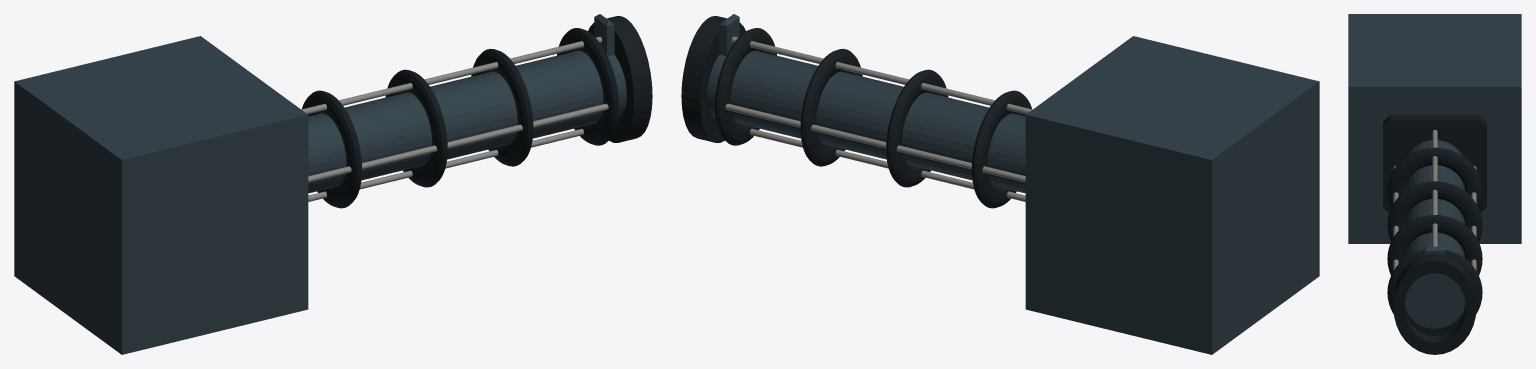
File: MOD_Railgun.fbx
3 views of the same model, side by side, from view 1: azimuth 30°, elevation 25°; view 2: azimuth 150°, elevation 25°; view 3: azimuth 270°, elevation 25° (orthographic). The views are drawn at different scales.
Visible parts, largest first — view 1: Cube, Barrel, Ring_1, Barrel_End, AimingRidge_Left, AimingRidge_Up, AimingRidge_Down, AimingDot; view 2: Cube, Barrel, Ring_1, Barrel_End, AimingRidge_Right, AimingRidge_Up, AimingRidge_Down, AimingDot; view 3: Cube, Ring_1, Barrel, Guard, Barrel_End, AimingRidge_Up, AimingDot, AimingRidge_Right, AimingRidge_Left.
Part boxes in pixels (x1,y1,x2,y2): Cube: [14, 36, 308, 354]; Barrel: [308, 50, 626, 193]; Ring_1: [302, 28, 618, 208]; Barrel_End: [588, 16, 652, 142]; AimingRidge_Left: [308, 103, 608, 182]; AimingRidge_Up: [301, 36, 602, 114]; AimingRidge_Down: [308, 129, 583, 201]; AimingDot: [594, 14, 614, 55]; Cube: [1025, 36, 1319, 354]; Barrel: [707, 50, 1025, 193]; Ring_1: [715, 28, 1031, 208]; Barrel_End: [681, 16, 745, 142]; AimingRidge_Right: [725, 103, 1025, 182]; AimingRidge_Up: [731, 36, 1032, 114]; AimingRidge_Down: [750, 129, 1025, 201]; AimingDot: [719, 14, 739, 55]; Cube: [1348, 14, 1521, 243]; Ring_1: [1387, 147, 1482, 314]; Barrel: [1404, 140, 1465, 328]; Guard: [1383, 115, 1486, 212]; Barrel_End: [1393, 253, 1476, 354]; AimingRidge_Up: [1432, 129, 1437, 246]; AimingDot: [1424, 246, 1445, 254]; AimingRidge_Right: [1471, 165, 1476, 270]; AimingRidge_Left: [1393, 165, 1398, 270].
Bounding box in the file's own units: 300 × 100 × 100.
